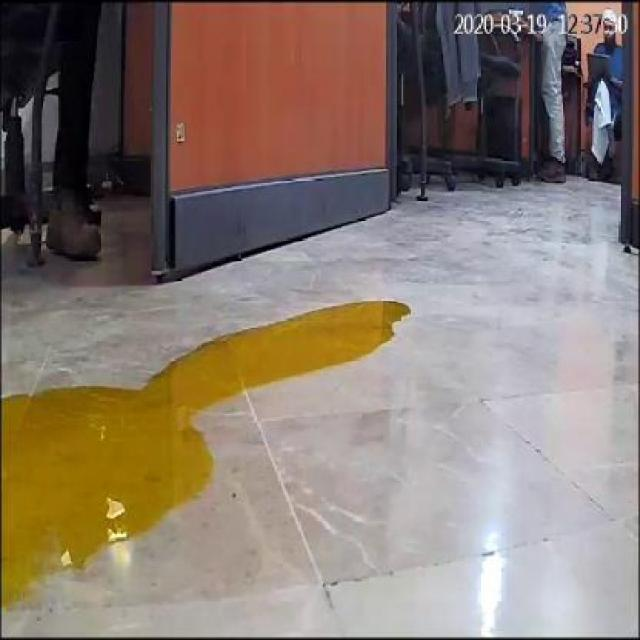spill: (2, 295, 410, 614)
